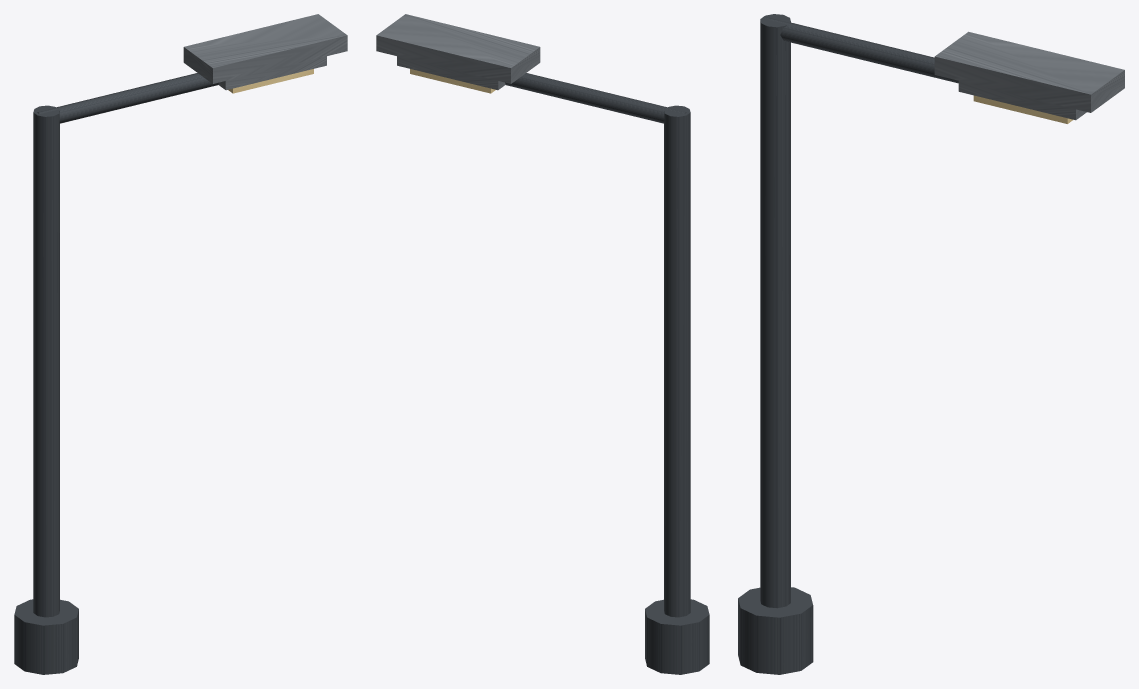
Rendered from farola.obj.
The picture shows the model from 3 angles, left to right: view 1: azimuth 30°, elevation 25°; view 2: azimuth 150°, elevation 25°; view 3: azimuth 330°, elevation 25°; orthographic projection. The views are drawn at different scales.
Parts seen in each view (by area): view 1: farola; view 2: farola; view 3: farola.
Boxes of the visible parts, left/top/right/bottom form: farola: left=14, top=14, right=347, bottom=674; farola: left=376, top=14, right=709, bottom=674; farola: left=738, top=14, right=1124, bottom=674.
Bounding box in the file's own units: 1.86 × 3.21 × 0.34.
1 material, 1 textured.
